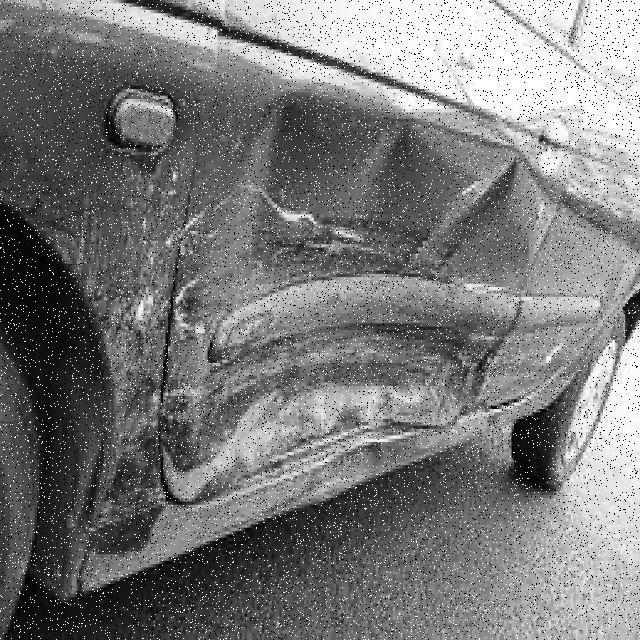doorouter-dent: (181, 31, 504, 476)
fender-dent: (1, 0, 172, 512)
